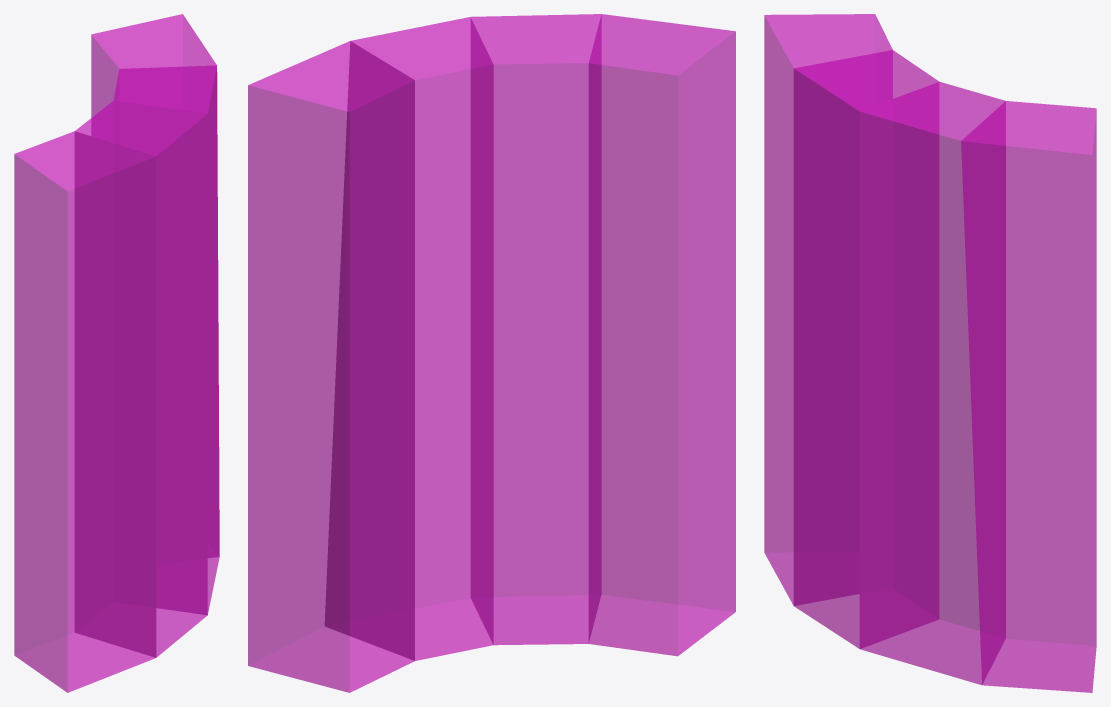
The model's file is SM_Bld_Wall_L_Curve_02_Collision.fbx.
3 renders of one model, left to right at view 1: azimuth 30°, elevation 25°; view 2: azimuth 150°, elevation 25°; view 3: azimuth 270°, elevation 25°, orthographic. The views are drawn at different scales.
Parts seen in each view (by area): view 1: SM_Bld_Wall_L_Curve_02_Collision; view 2: SM_Bld_Wall_L_Curve_02_Collision; view 3: SM_Bld_Wall_L_Curve_02_Collision.
Boxes of the visible parts, x1,y1,x2,y2 form: SM_Bld_Wall_L_Curve_02_Collision: [14, 14, 219, 692]; SM_Bld_Wall_L_Curve_02_Collision: [248, 14, 735, 692]; SM_Bld_Wall_L_Curve_02_Collision: [764, 14, 1096, 692].
Bounding box in the file's own units: 341 × 605 × 339.
